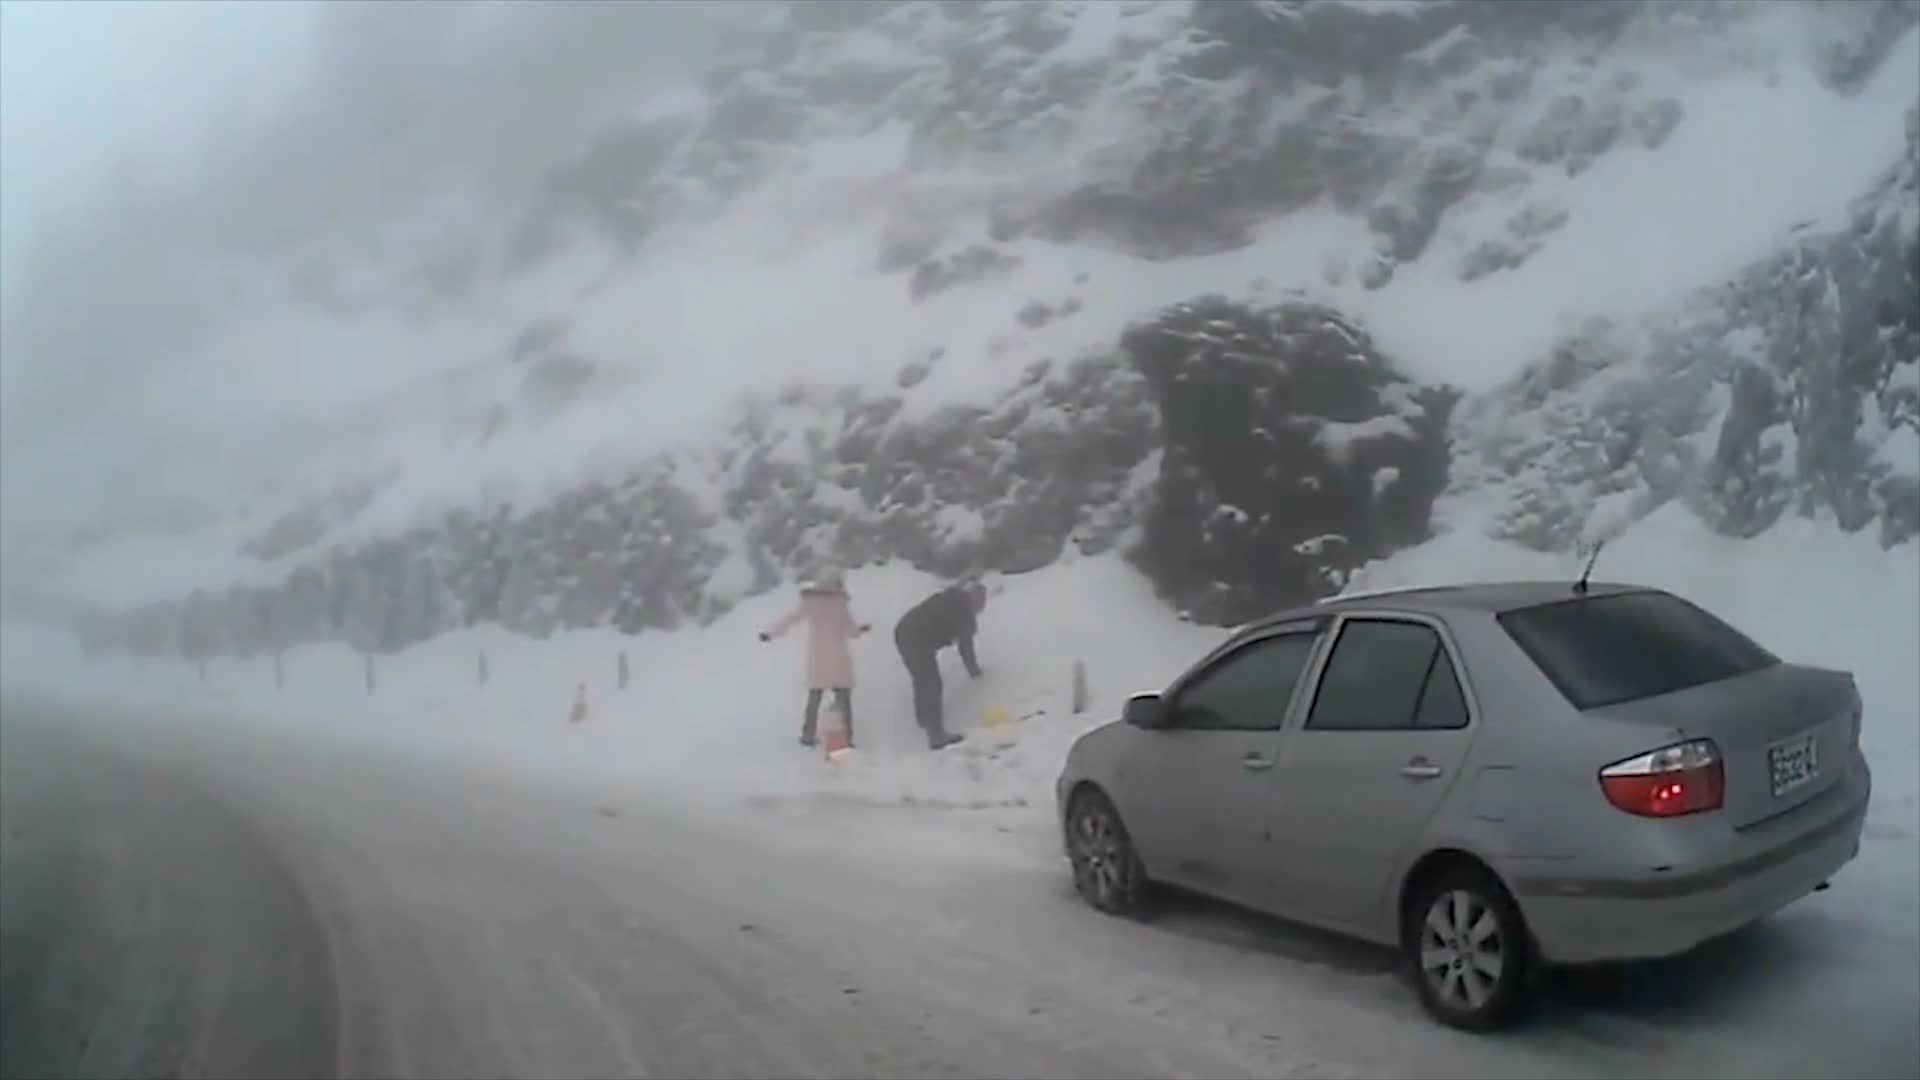pedestrian: (767, 567, 880, 756), (898, 585, 991, 752)
vehicle: (1057, 578, 1871, 1036)
